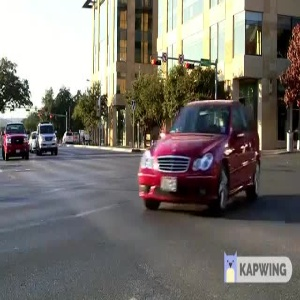car: (135, 83, 267, 214)
